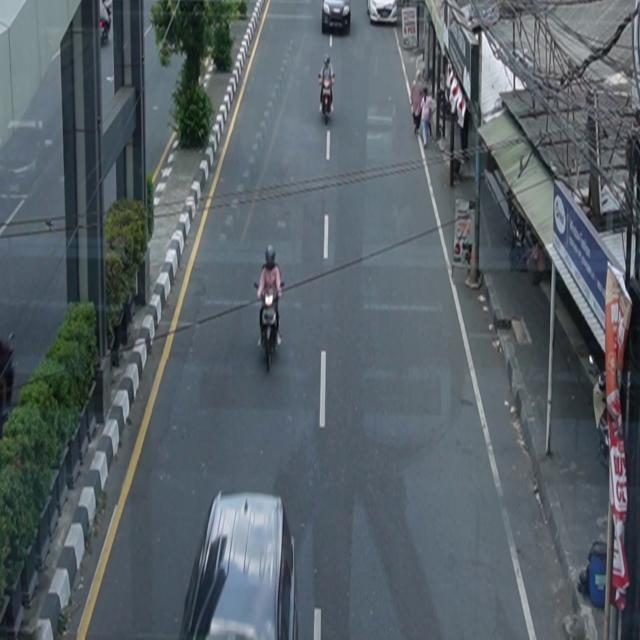car: (322, 1, 352, 34), (367, 1, 399, 26)
